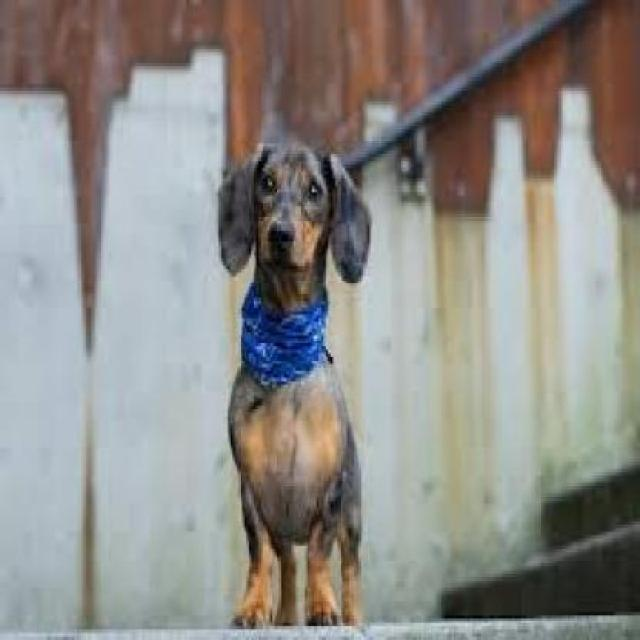animals: (216, 92, 375, 640)
